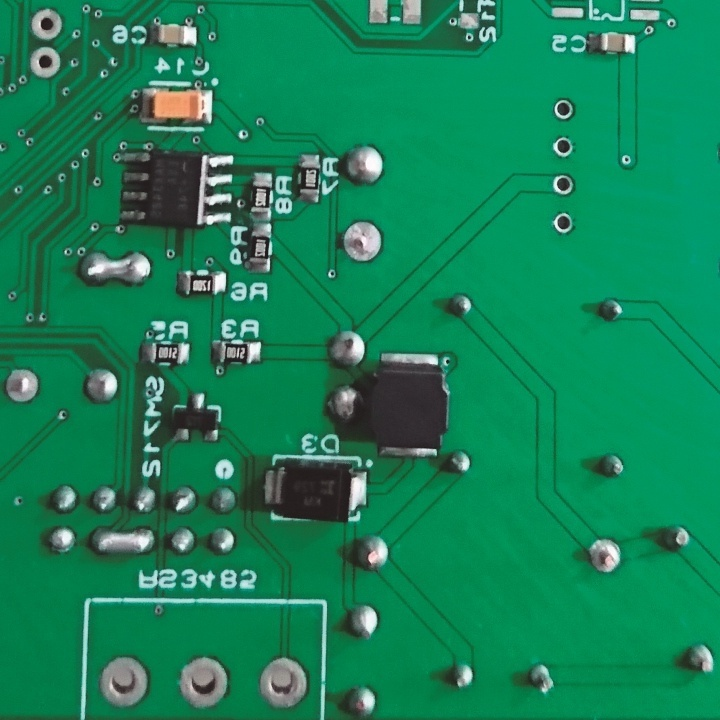F: (178, 653, 233, 713), (258, 654, 311, 712), (99, 655, 151, 714), (341, 218, 384, 264), (590, 535, 624, 582), (4, 368, 44, 405), (27, 9, 64, 46), (30, 45, 64, 80), (547, 172, 579, 202), (548, 95, 578, 126), (550, 212, 581, 239), (549, 133, 579, 160)
P: (79, 248, 154, 287), (87, 520, 156, 562)
